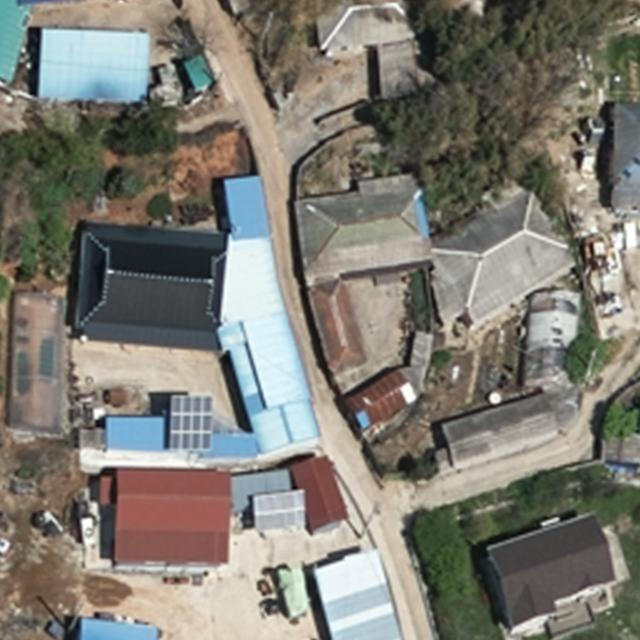panel: (166, 393, 213, 452), (253, 490, 308, 533)
